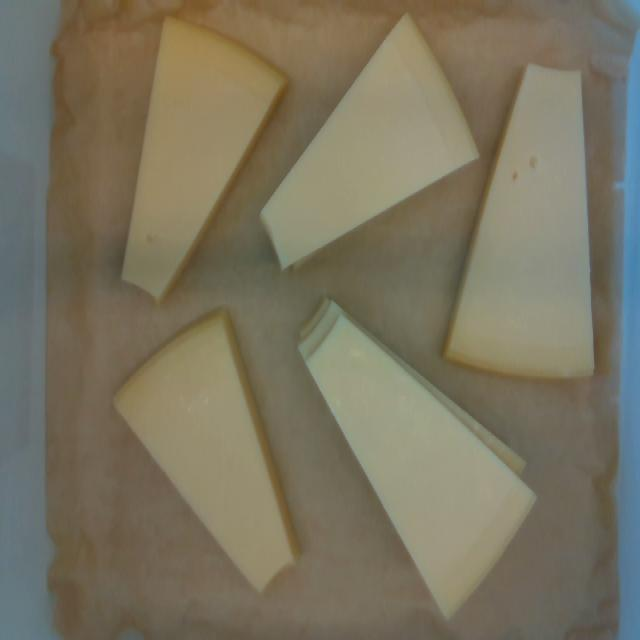Cheese: (306, 315, 537, 624), (262, 15, 477, 267), (115, 315, 293, 588), (446, 64, 592, 377), (123, 20, 284, 299)
